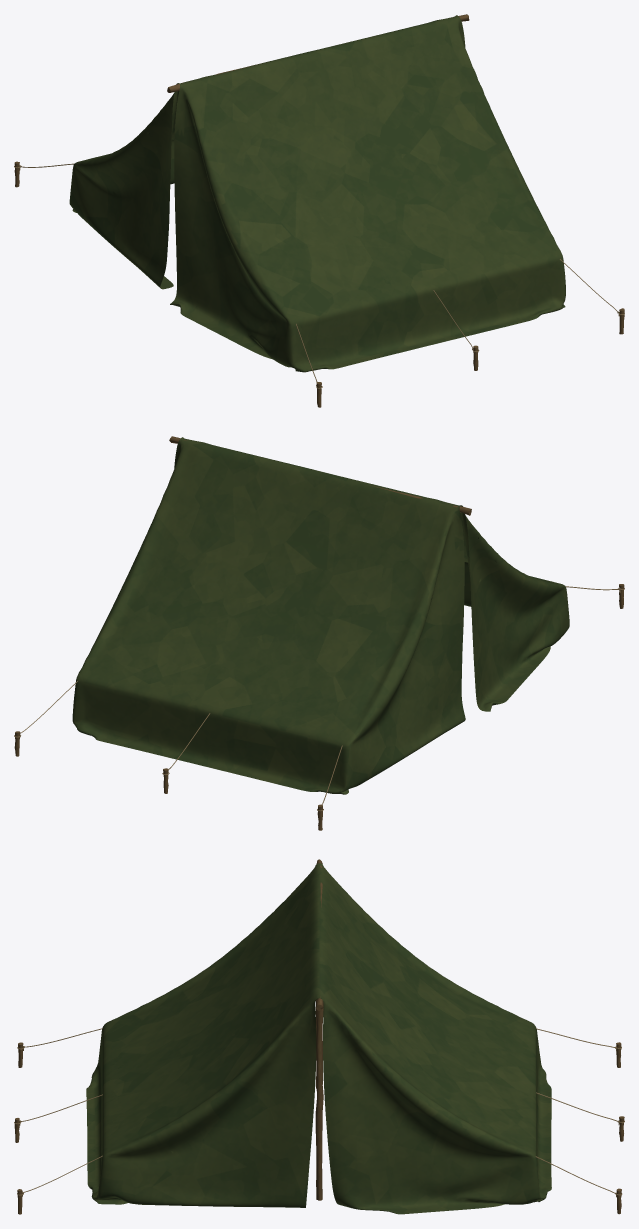
File: tent.glb
The picture shows the model from 3 angles, top to bottom: view 1: azimuth 30°, elevation 25°; view 2: azimuth 150°, elevation 25°; view 3: azimuth 270°, elevation 25°; orthographic projection.
Visible parts, largest first — view 1: Tent; view 2: Tent; view 3: Tent.
Boxes of the visible parts, x1,y1,x2,y2 form: Tent: (14, 14, 624, 407); Tent: (14, 436, 624, 830); Tent: (14, 859, 624, 1214).
Bounding box in the file's own units: 15.57 × 10.09 × 26.14.
Materials: 1 (1 with a texture image).
